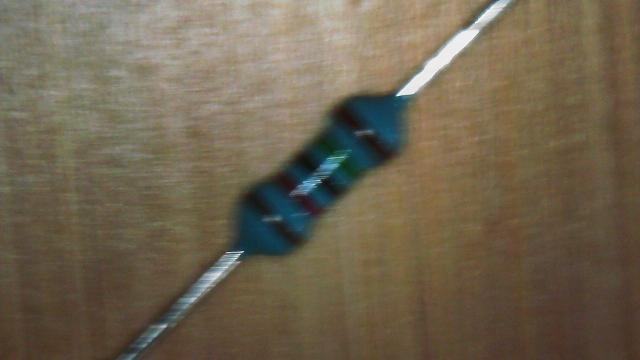black: (294, 150, 343, 199)
brown: (245, 189, 304, 246), (336, 103, 394, 160)
green: (315, 134, 360, 179)
red: (274, 170, 324, 216)
resistor: (199, 55, 438, 297)
